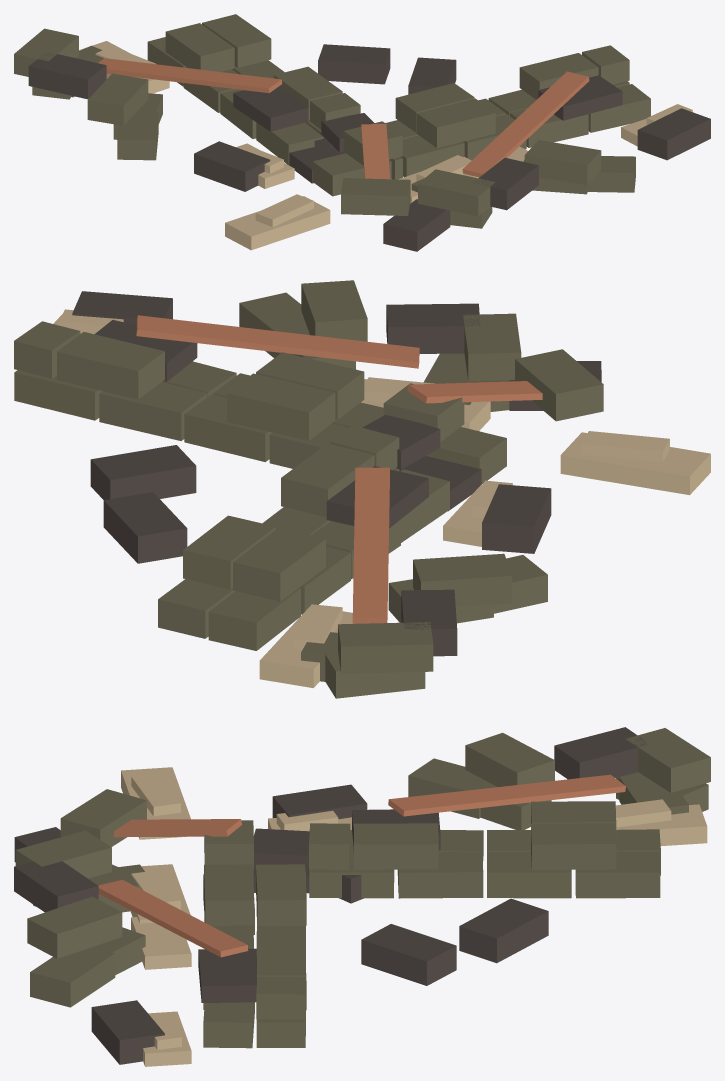
File: SM_SacosEsquina_v3_Tablon_e2_MuyDanado_LOD0.fbx
3 views of the same model, one above another, from view 1: azimuth 30°, elevation 25°; view 2: azimuth 150°, elevation 25°; view 3: azimuth 270°, elevation 25° (orthographic). The views are drawn at different scales.
Parts seen in each view (by area): view 1: SM_sacos_piezas_v14_LOD0; view 2: SM_sacos_piezas_v14_LOD0; view 3: SM_sacos_piezas_v14_LOD0.
Boxes of the visible parts, x1,y1,x2,y2 form: SM_sacos_piezas_v14_LOD0: [14, 14, 710, 251]; SM_sacos_piezas_v14_LOD0: [14, 280, 710, 698]; SM_sacos_piezas_v14_LOD0: [14, 727, 710, 1066].
Bounding box in the file's own units: 6.59 × 0.6798 × 6.68.
